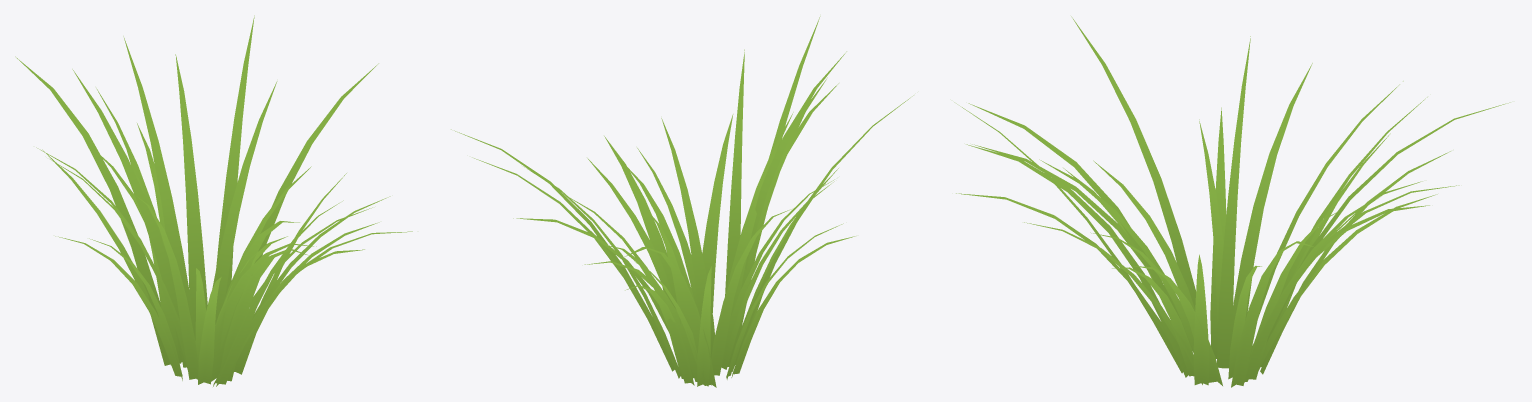
The model's file is grass_tall1.gltf.
3 views of the same model, side by side, from view 1: azimuth 30°, elevation 25°; view 2: azimuth 150°, elevation 25°; view 3: azimuth 270°, elevation 25° (orthographic). The views are drawn at different scales.
Visible parts, largest first — view 1: grass_tall1_blade_LOD0; view 2: grass_tall1_blade_LOD0; view 3: grass_tall1_blade_LOD0.
Part boxes in pixels (left/top/right/bottom): grass_tall1_blade_LOD0: left=15, top=15, right=412, bottom=386; grass_tall1_blade_LOD0: left=451, top=16, right=913, bottom=387; grass_tall1_blade_LOD0: left=954, top=16, right=1510, bottom=387.
Size of what is drawn, in the model's own units: 1.11 by 0.7826 by 1.37.
